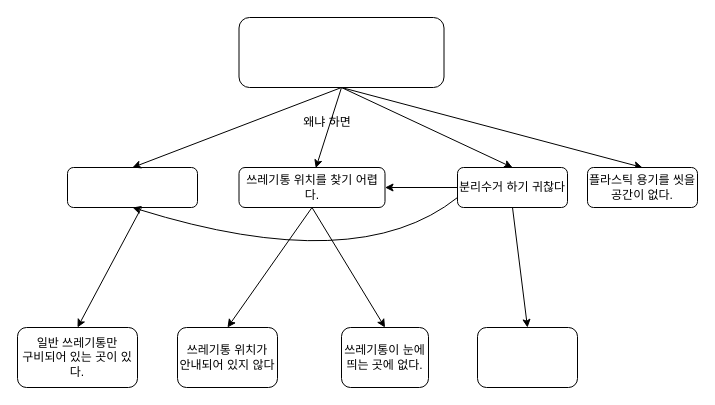
Image size: 715x405. Some labels were removed from this diagram. The centre of each missing label's shape, as x and y in pixels:
"놀러가서까지 쓰레기 치우기 싫다." belongs at (527,357).
"분리수거 쓰레기통이 없다." belongs at (132,187).
"사람들은 한강에서 취식 후 발생하는 쓰레기를 분리배출 하지 않는다." belongs at (341,52).
